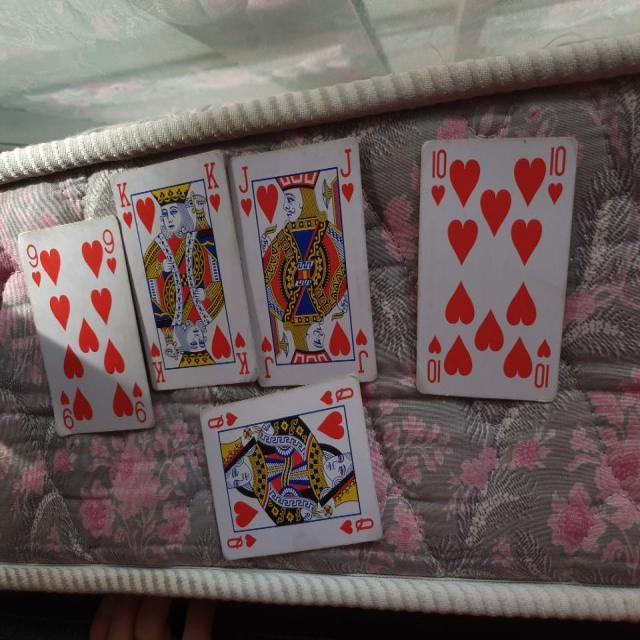10 of hearts: (408, 119, 586, 402)
9 of hearts: (22, 202, 160, 444)
jack of hearts: (226, 125, 386, 386)
king of hearts: (106, 145, 265, 395)
queen of hearts: (200, 377, 393, 577)
